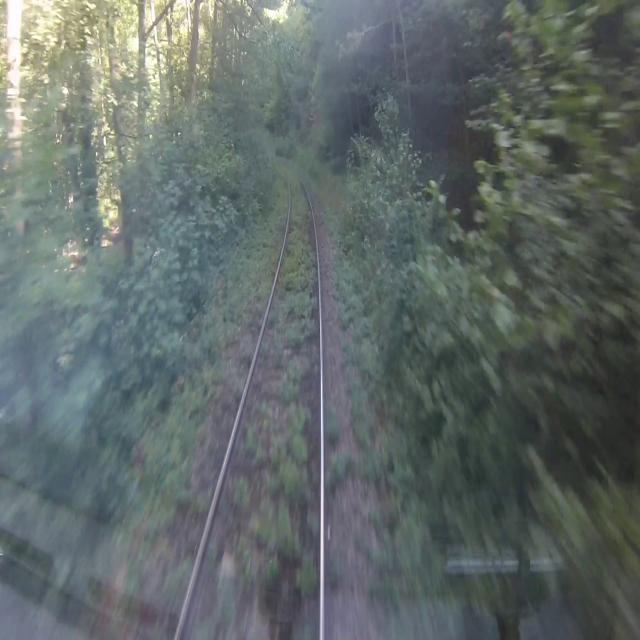Plant: (124, 166, 289, 639), (287, 151, 359, 374), (241, 398, 317, 597), (267, 165, 318, 402), (327, 380, 368, 492), (352, 532, 377, 605), (210, 592, 237, 636), (230, 468, 250, 513), (234, 545, 252, 585), (324, 404, 341, 446), (329, 558, 344, 589), (208, 541, 219, 567)
